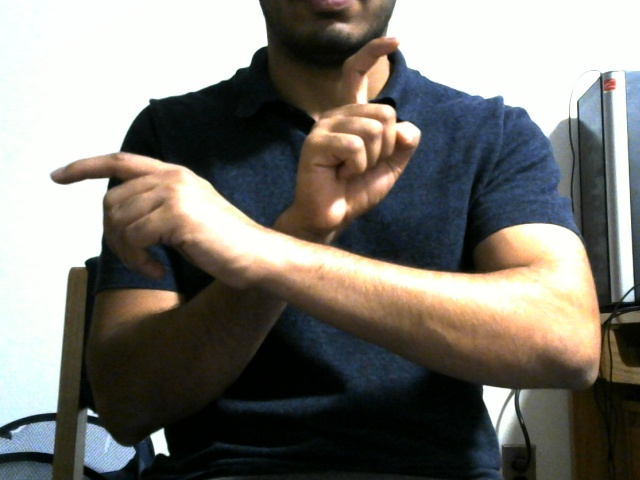call: (36, 26, 463, 324)
